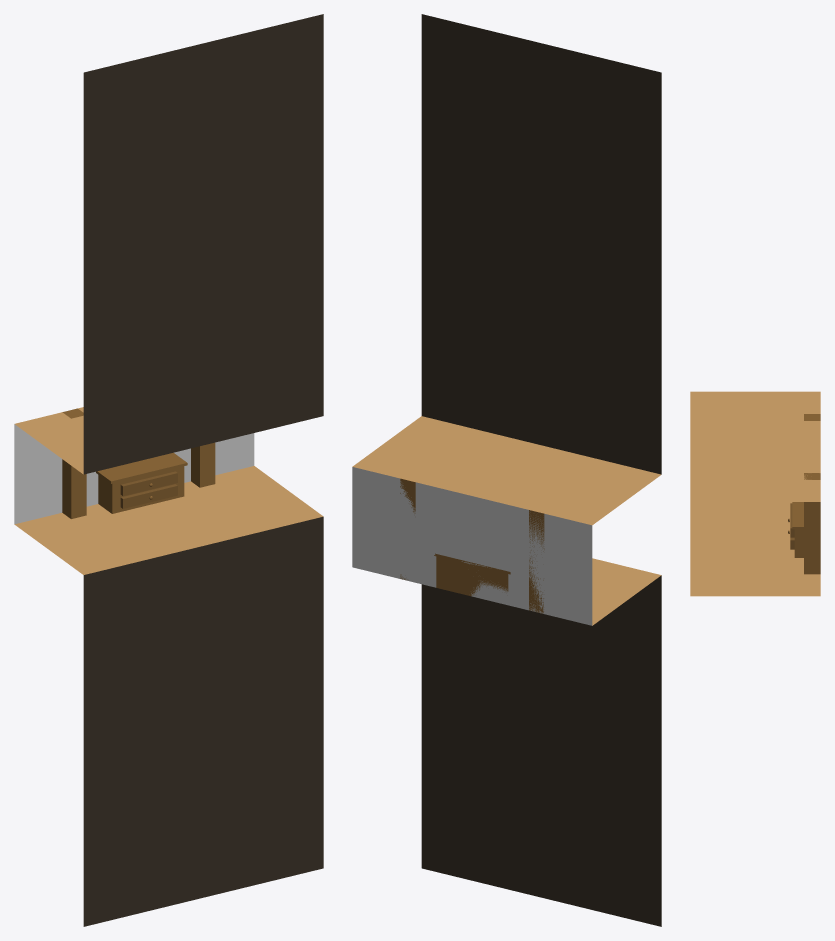
File: Corridor-002.fbx
3 renders of one model, left to right at view 1: azimuth 30°, elevation 25°; view 2: azimuth 150°, elevation 25°; view 3: azimuth 270°, elevation 25°, orthographic. The views are drawn at different scales.
Parts seen in each view (by area): view 1: Corridor.002; view 2: Corridor.002; view 3: Corridor.002.
Boxes of the visible parts, left/top/right/bottom form: Corridor.002: left=14, top=14, right=323, bottom=926; Corridor.002: left=352, top=14, right=661, bottom=926; Corridor.002: left=690, top=391, right=820, bottom=596.
Bounding box in the file's own units: 1000 × 3400 × 500.
